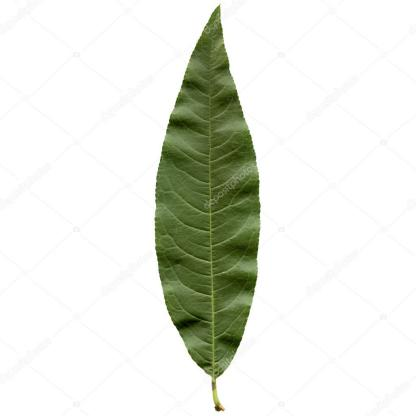peach leaf: (151, 4, 262, 416)
